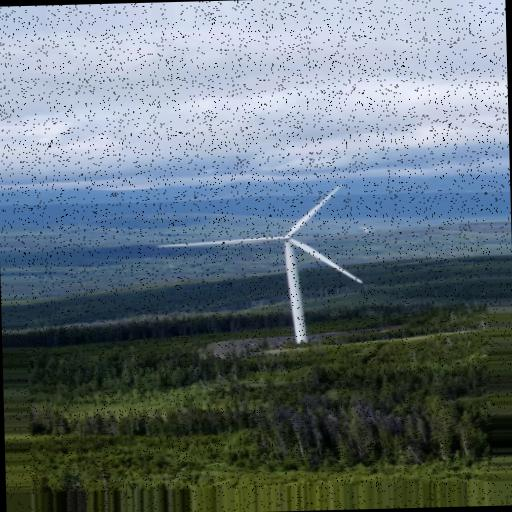wind turbine: (157, 185, 369, 347)
